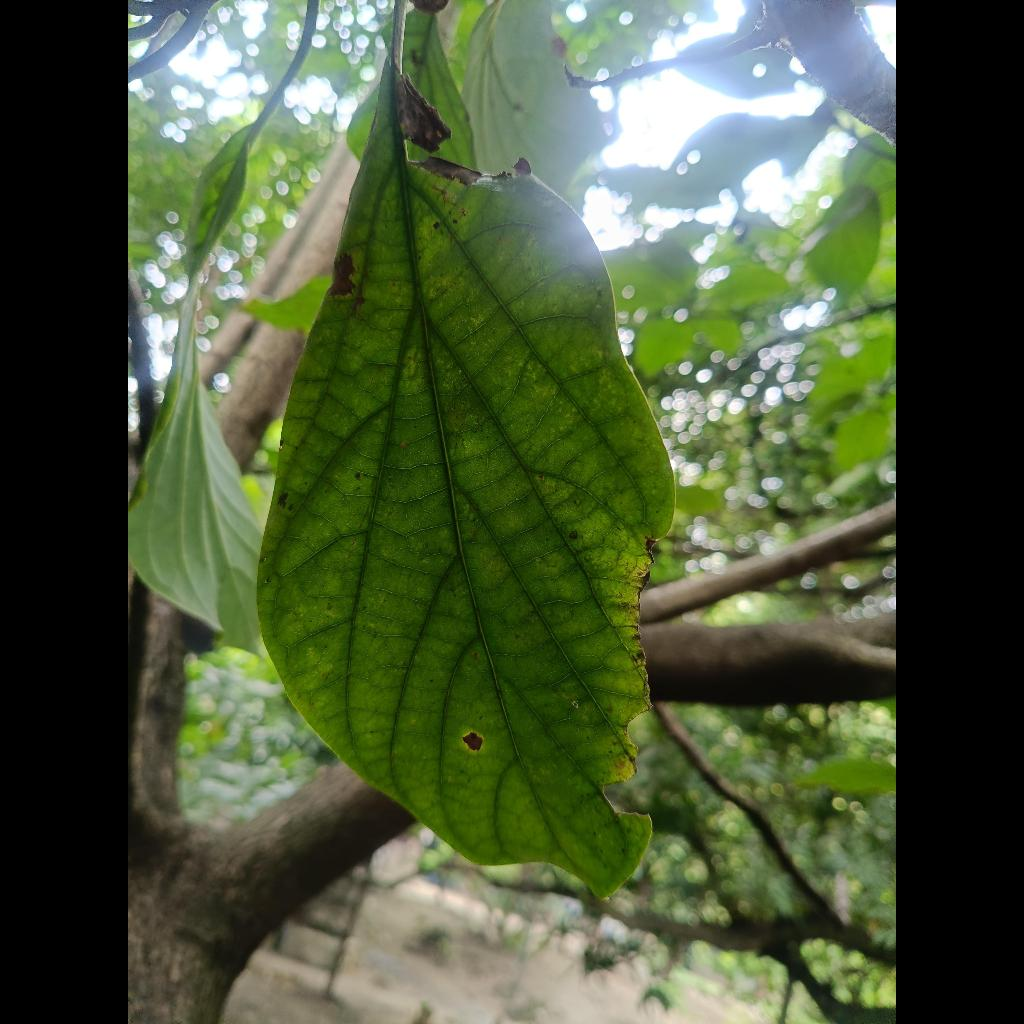Anthracnose: (258, 59, 673, 896)
